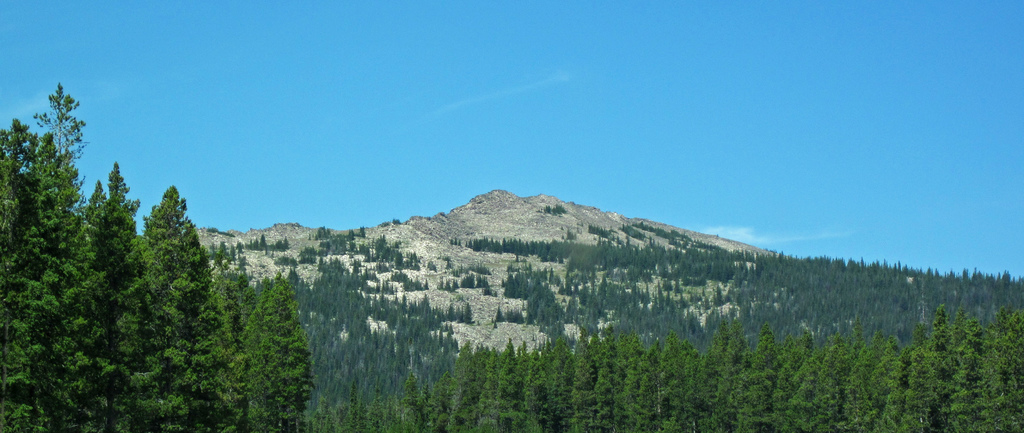Tree: (325, 225, 1023, 432), (0, 84, 241, 432), (238, 270, 318, 432)
